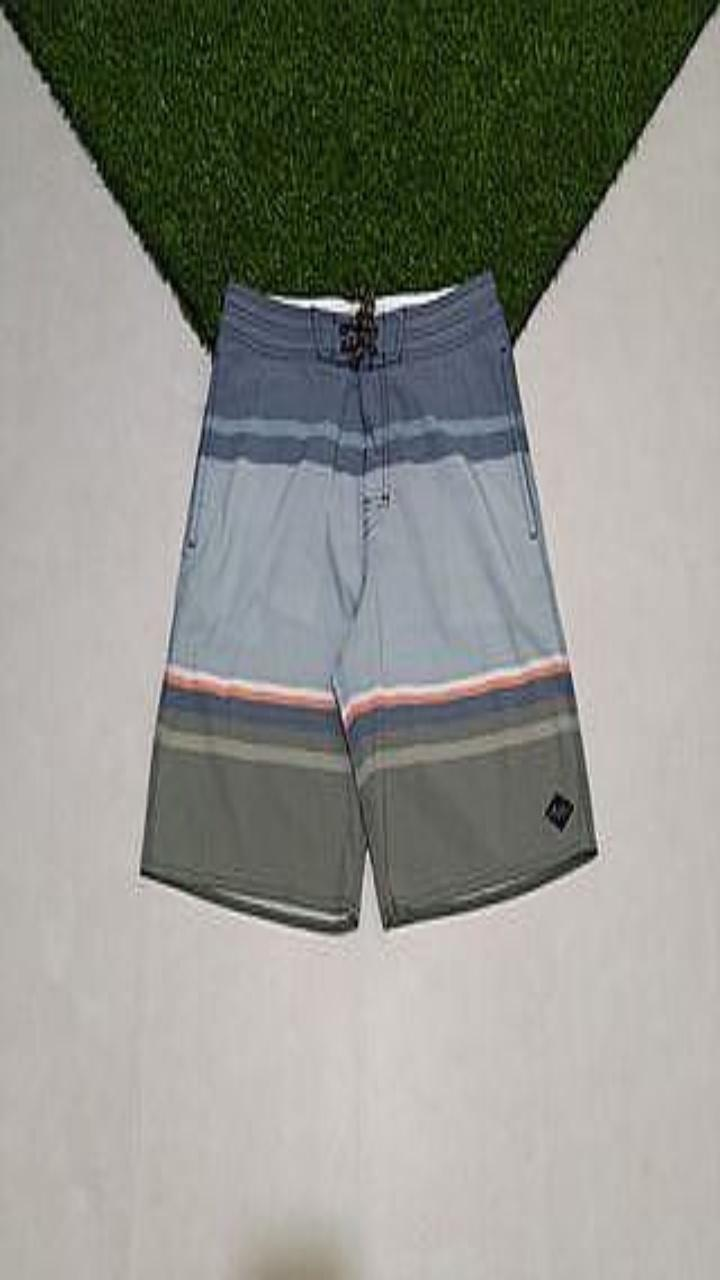Shorts: (141, 270, 597, 930)
